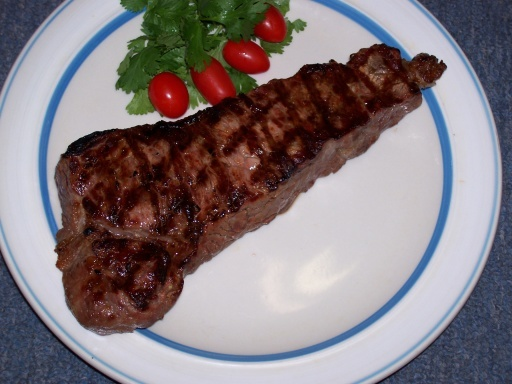background: (42, 0, 358, 202)
